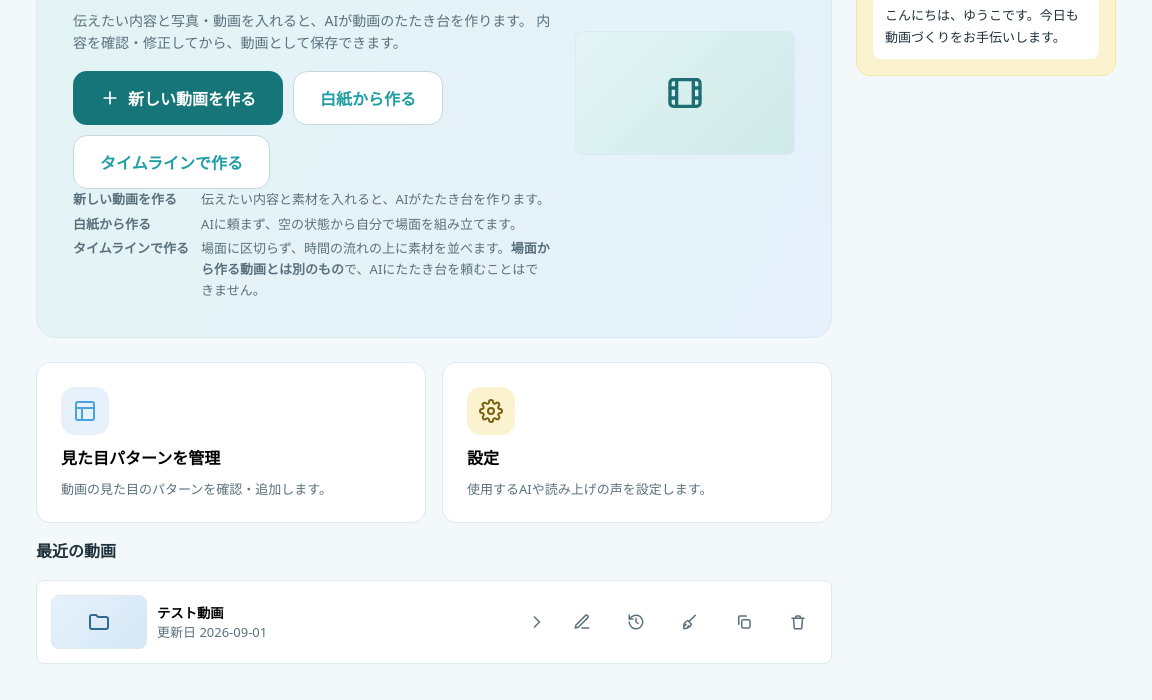
Scenario: 開けなかった動画の復旧（#263） › 壊れていて控えがあるときだけ、戻す導線を出す（いつのものかも見せる）
(page scrolled)
Click the button "テスト動画 更新日 2026-09-01" at (99, 622), box [51,595,547,649]
(page scrolled)
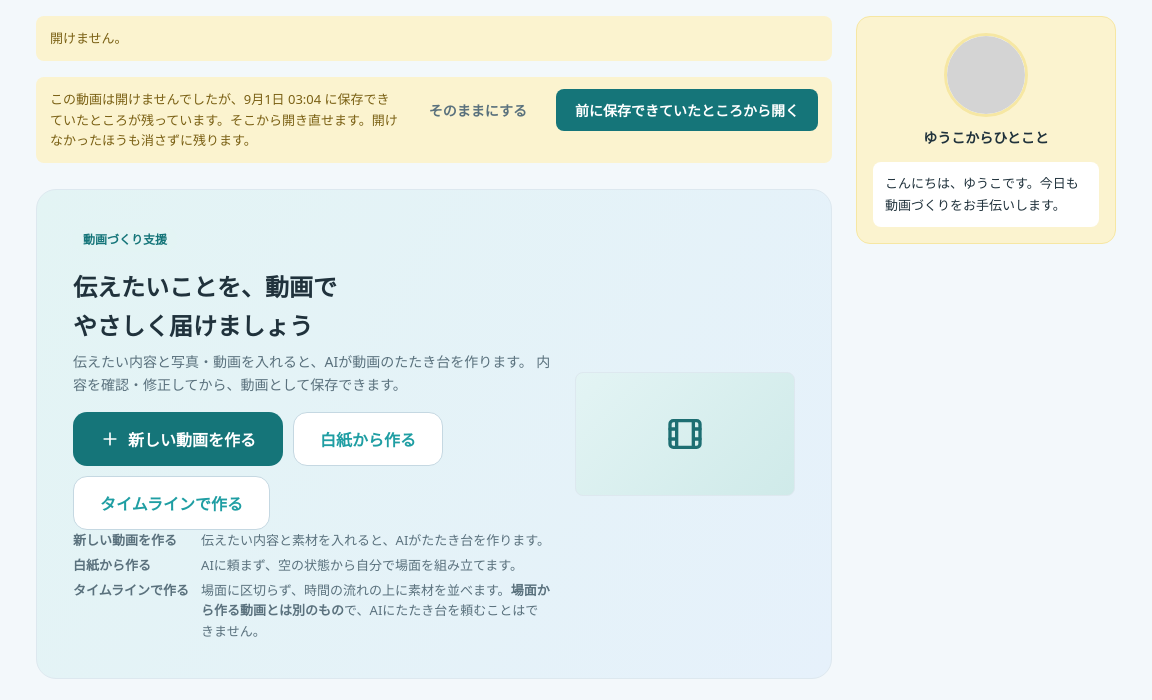
Now the button "前に保存できていたところから開く" is shown, box [556,89,818,131]
Now the text "保存できていたところが残っています" is shown, box [50,90,398,149]
